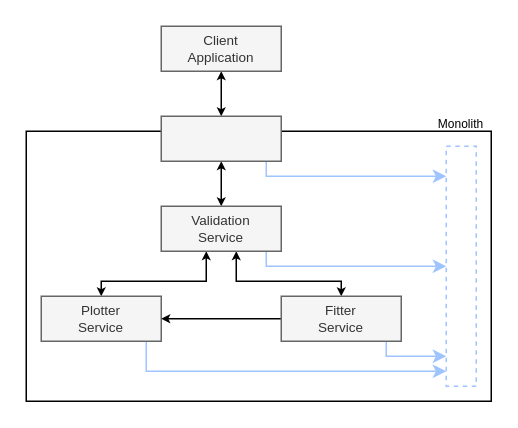
Some shapes in this 518 by 428 pixel diagram are drawn without their labels. The centre of each missing label's shape, as x and y in pixels:
"Central Logging Service" goes at [460,265].
"Gateway Service" goes at [220,138].
